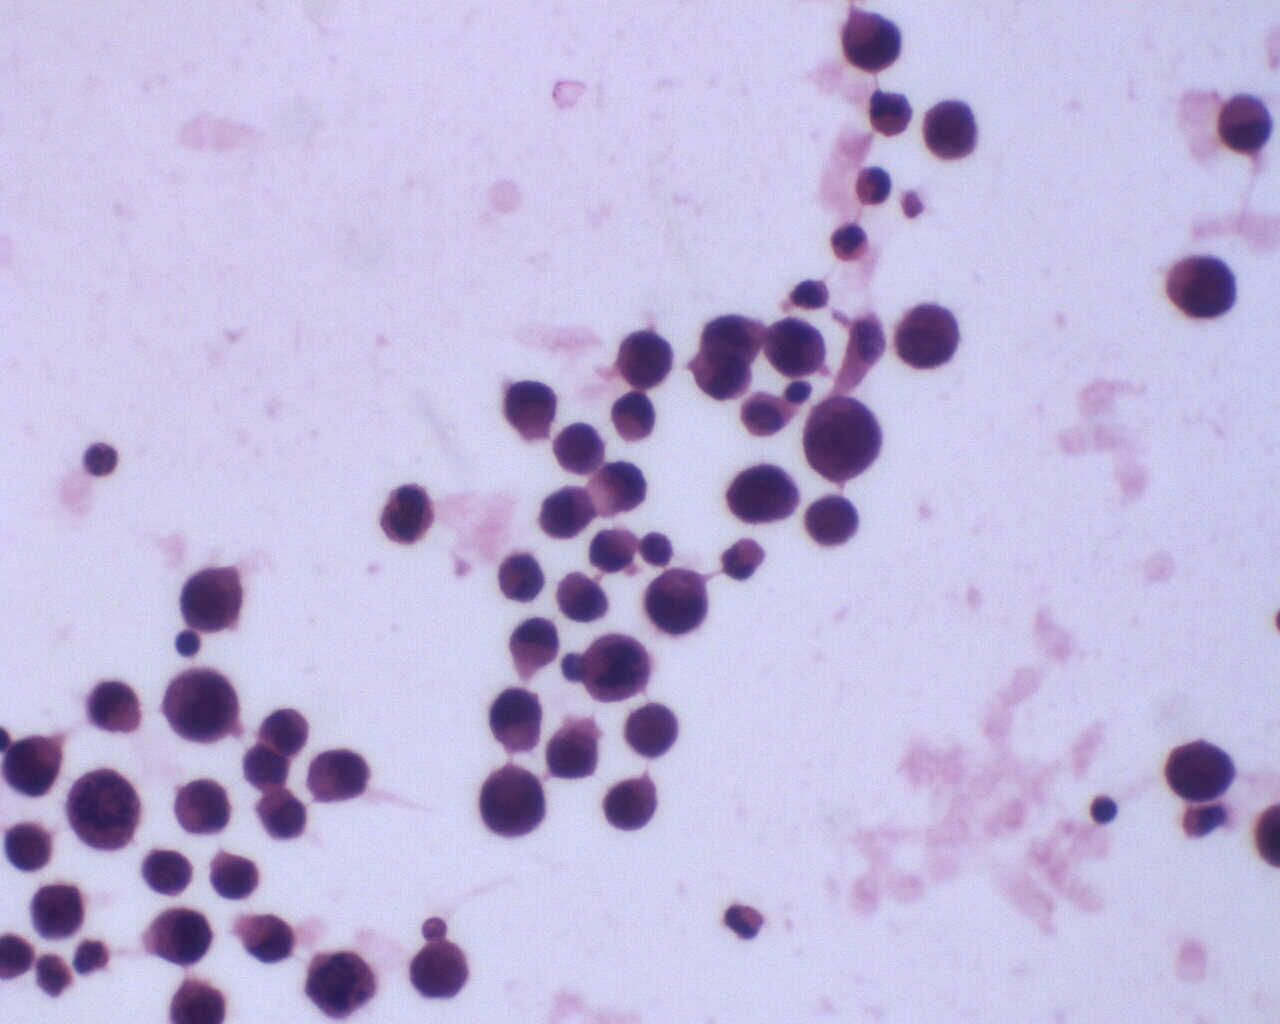ab: (801, 395, 885, 483), (67, 765, 145, 853), (164, 664, 241, 745), (1166, 248, 1239, 329), (1164, 730, 1240, 807), (305, 948, 383, 1020), (726, 460, 802, 529), (479, 764, 546, 841), (178, 562, 247, 635), (582, 633, 653, 703), (404, 933, 475, 1003), (642, 563, 709, 636), (839, 7, 908, 78), (895, 299, 960, 370), (540, 708, 600, 783), (1, 735, 68, 799), (28, 876, 93, 941), (552, 562, 619, 625), (147, 905, 215, 967), (920, 98, 983, 163), (764, 315, 829, 378), (305, 745, 371, 808), (377, 483, 437, 551), (603, 772, 659, 836), (174, 776, 233, 836), (614, 331, 675, 389), (552, 420, 605, 478), (203, 848, 262, 899)
lymph: (1089, 793, 1121, 828)
neutro: (831, 222, 872, 263), (82, 439, 119, 481)
